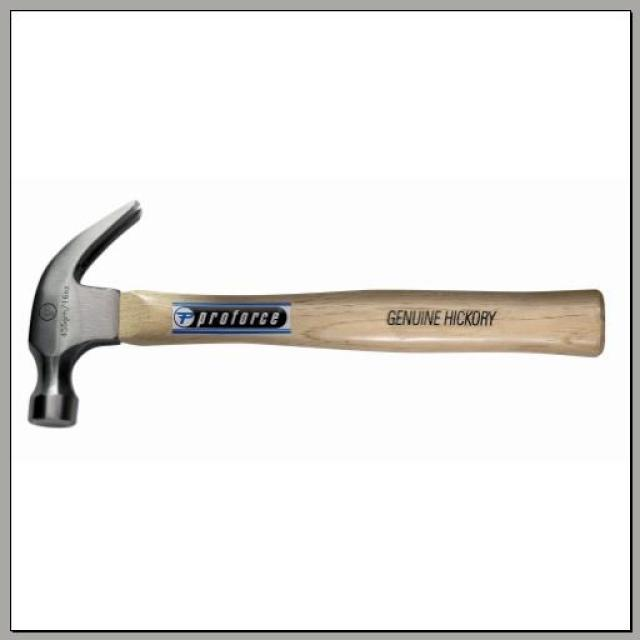hammer: (15, 190, 612, 448)
